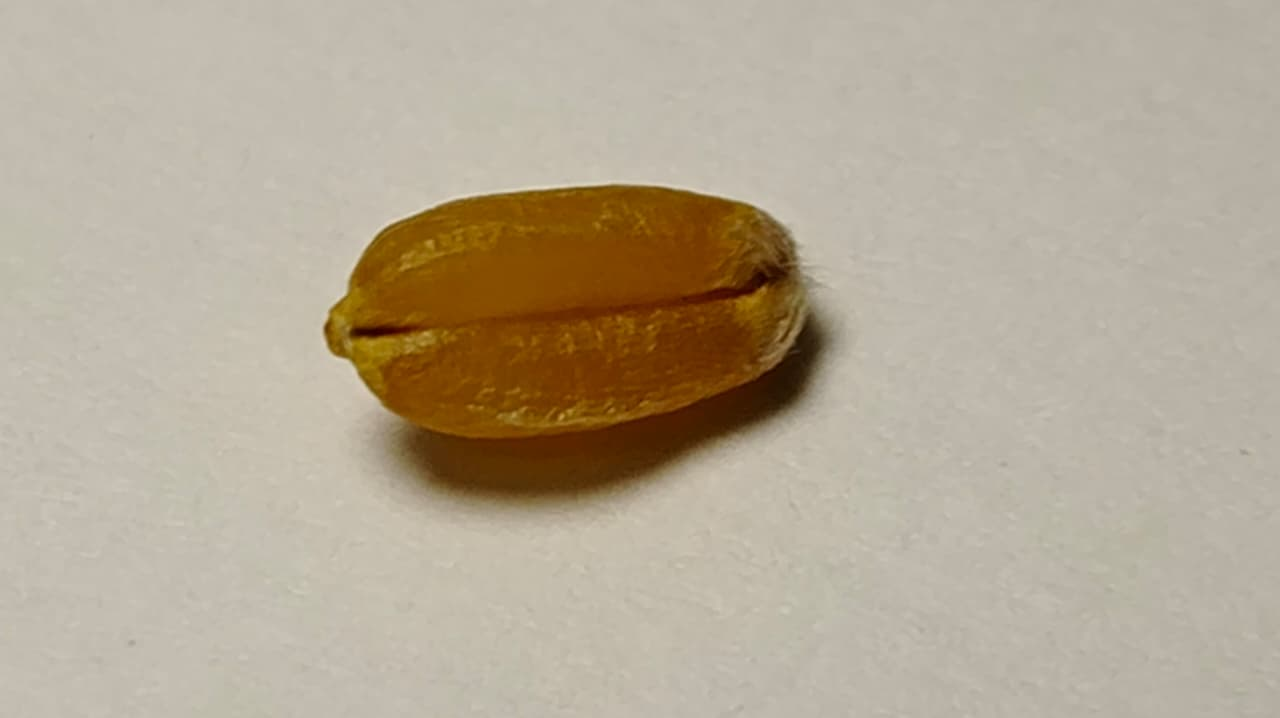healthy: (326, 187, 806, 437)
